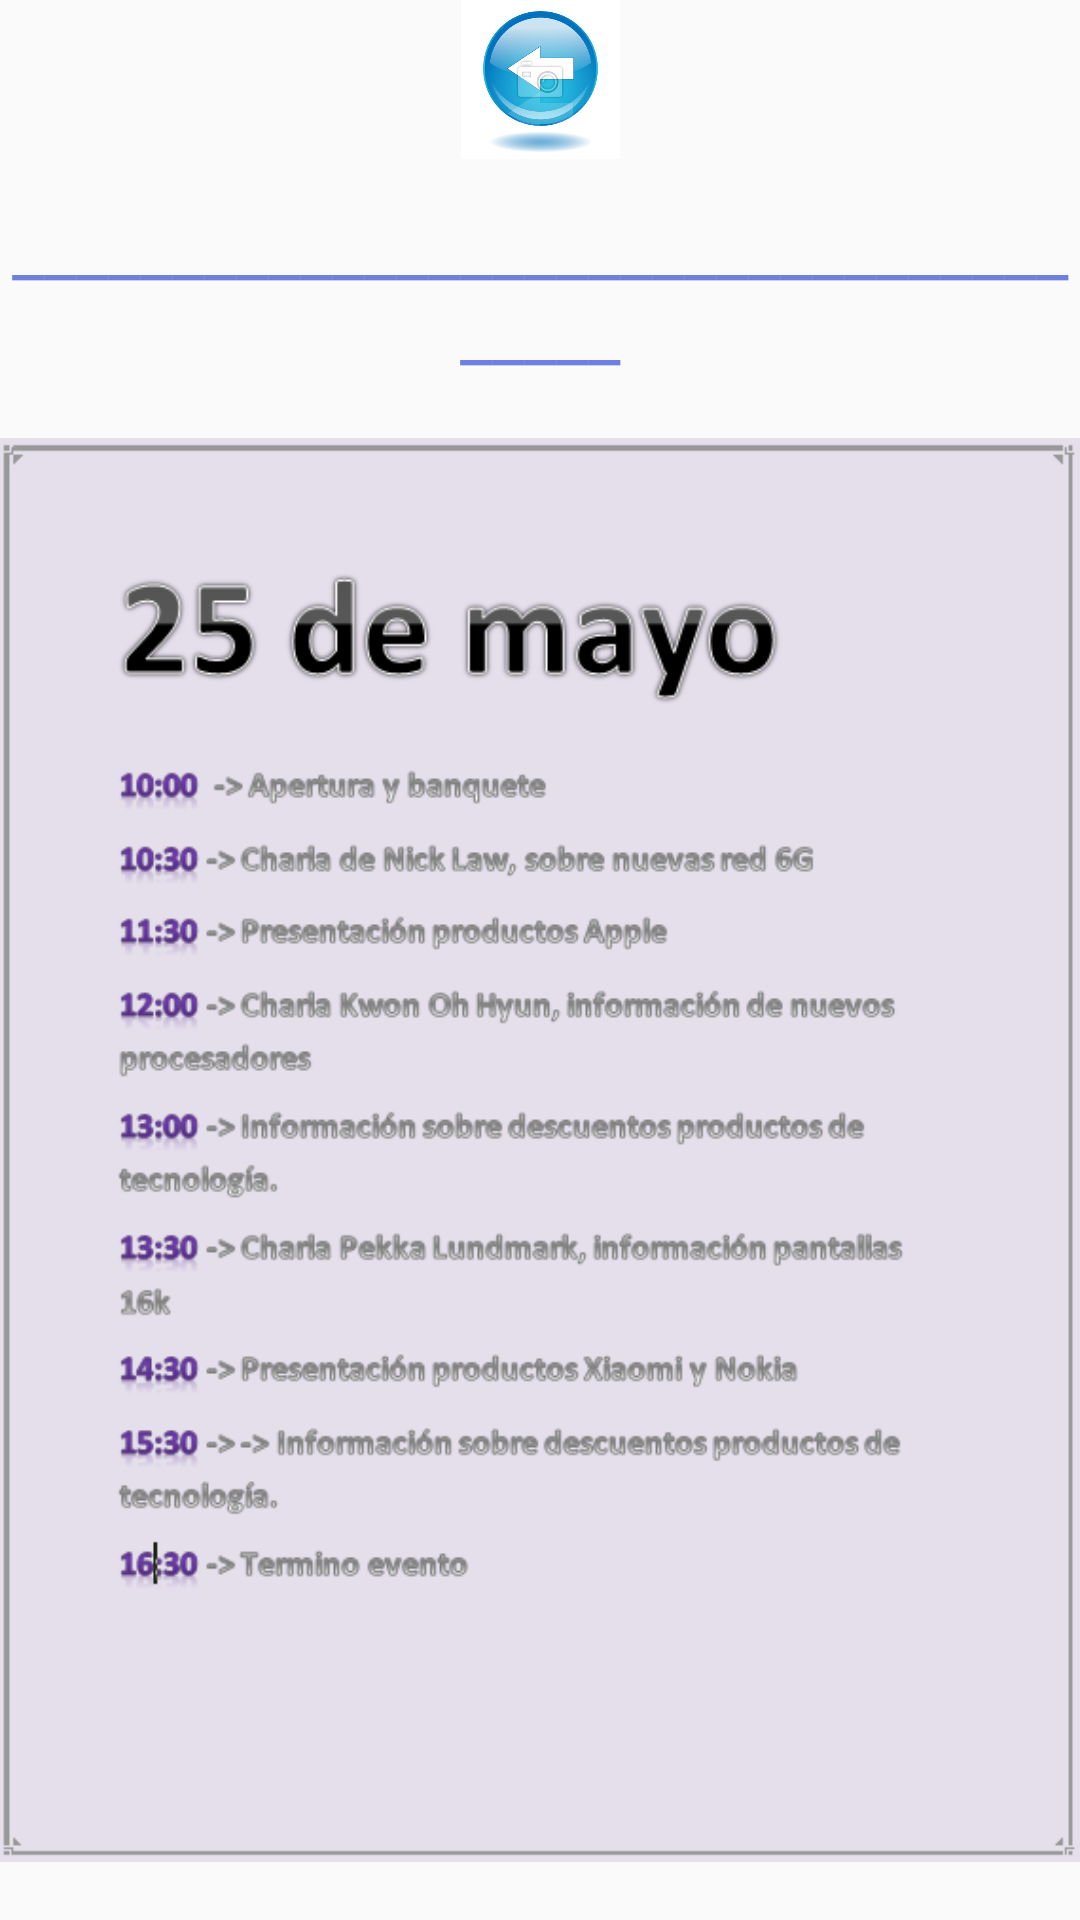

Where to tap for icons on this 1080×1920 app screen, as [x,y]:
anterior: [540,81]
